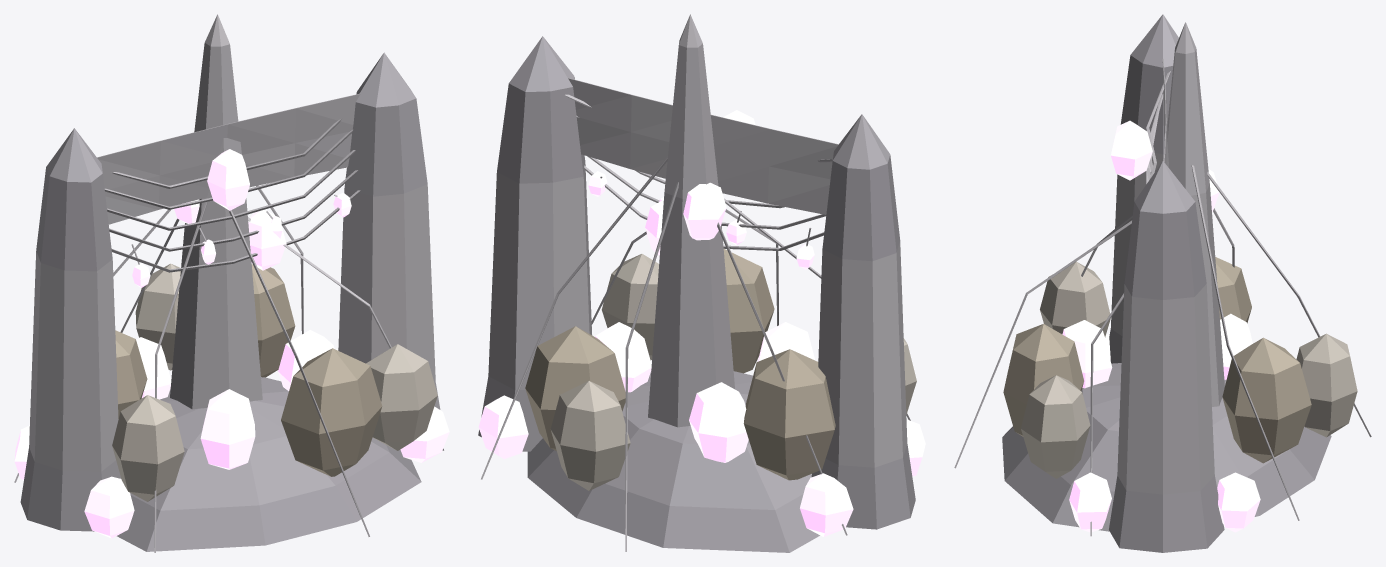
File: nests.glb
The picture shows the model from 3 angles, left to right: view 1: azimuth 30°, elevation 25°; view 2: azimuth 150°, elevation 25°; view 3: azimuth 270°, elevation 25°; orthographic projection. The views are drawn at different scales.
Visible parts, largest first — view 1: nests_brood_cluster_a, nests_web_gate_a; view 2: nests_brood_cluster_a, nests_web_gate_a; view 3: nests_brood_cluster_a, nests_web_gate_a.
Part boxes in pixels (bbox=[...]): nests_brood_cluster_a: bbox=[14, 14, 443, 552]; nests_web_gate_a: bbox=[14, 52, 449, 538]; nests_brood_cluster_a: bbox=[481, 14, 916, 552]; nests_web_gate_a: bbox=[478, 36, 925, 536]; nests_brood_cluster_a: bbox=[954, 22, 1371, 536]; nests_web_gate_a: bbox=[1069, 14, 1260, 552].
Bounding box in the file's own units: 3.01 × 3.2 × 2.77.
